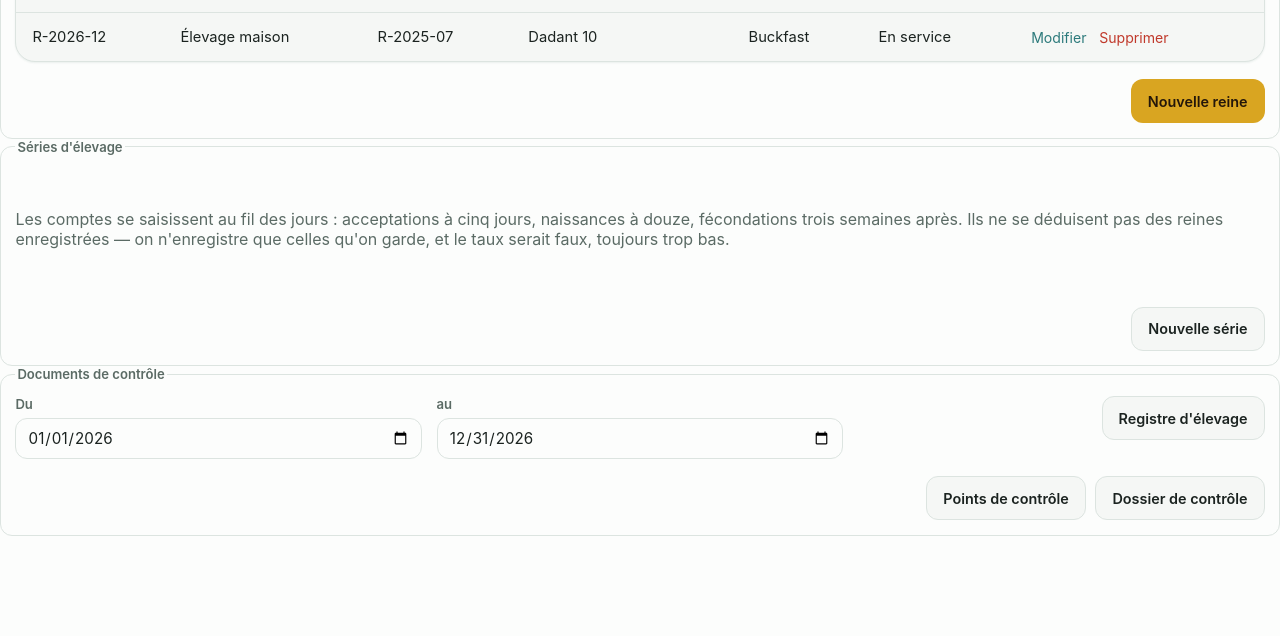
Scenario: élevage › n’affiche aucune note globale, et dit pourquoi
Click the button "Modifier" at (1059, 37), box [1025,25,1093,49]
(page scrolled)
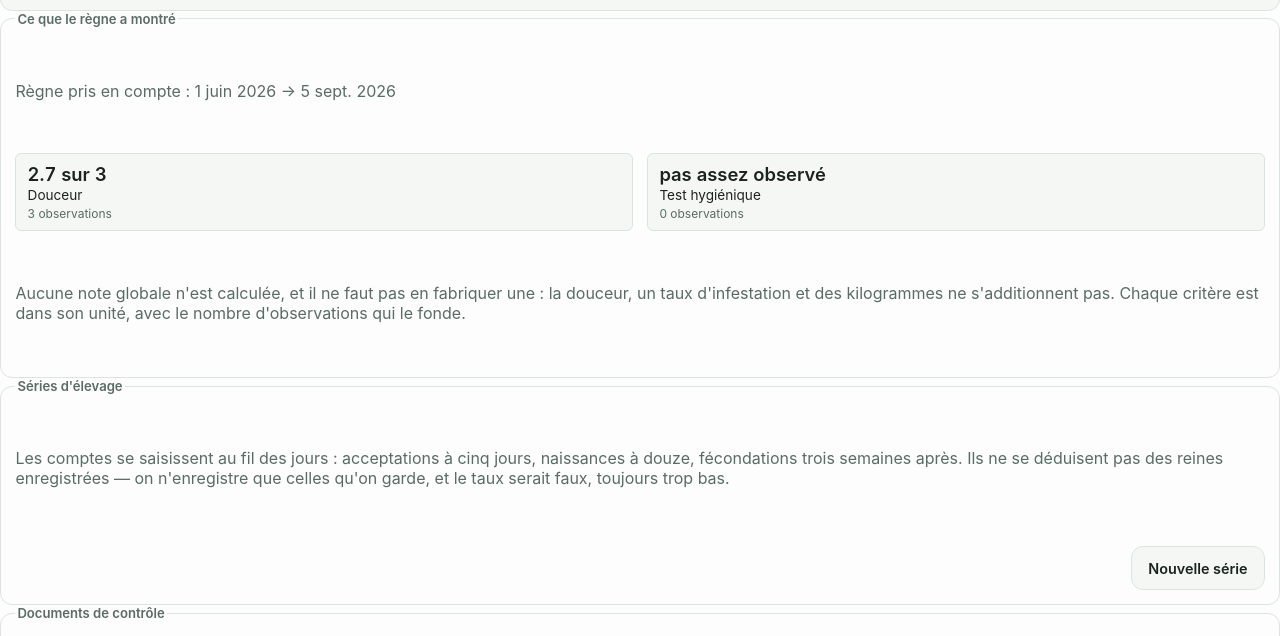
Now the text "Aucune note globale n'est calculée" is shown, box [15,283,1259,323]
